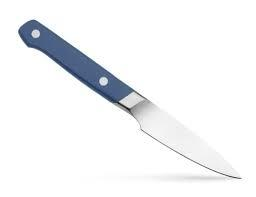Knife: (17, 18, 242, 179)
